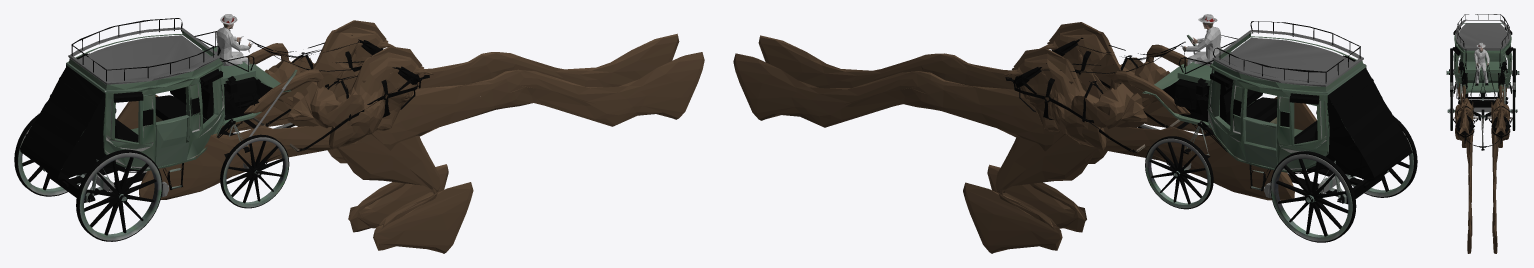
Rendered from carriage.glb.
The picture shows the model from 3 angles, left to right: view 1: azimuth 30°, elevation 25°; view 2: azimuth 150°, elevation 25°; view 3: azimuth 270°, elevation 25°; orthographic projection. The views are drawn at different scales.
Visible parts, largest first — view 1: horse_r, body, horse_l, wheels_rear, wheels_front, driver; view 2: horse_l, body, horse_r, wheels_rear, wheels_front, driver; view 3: body, horse_r, horse_l, driver, wheels_rear, wheels_front.
Boxes of the visible parts, x1,y1,x2,y2 form: horse_r: (139, 46, 704, 253); body: (20, 18, 429, 202); horse_l: (117, 20, 679, 232); wheels_rear: (14, 115, 162, 241); wheels_front: (220, 134, 289, 208); driver: (216, 14, 260, 81); horse_l: (733, 48, 1294, 253); body: (1005, 21, 1412, 204); horse_r: (758, 22, 1316, 232); wheels_rear: (1270, 117, 1417, 242); wheels_front: (1145, 136, 1213, 209); driver: (1182, 14, 1221, 65); body: (1446, 14, 1519, 150); horse_r: (1455, 66, 1473, 253); horse_l: (1491, 70, 1509, 253); driver: (1474, 42, 1489, 85); wheels_rear: (1450, 48, 1515, 97); wheels_front: (1450, 91, 1515, 130).
Bounding box in the file's own units: 9.89 × 4.07 × 1.88.
